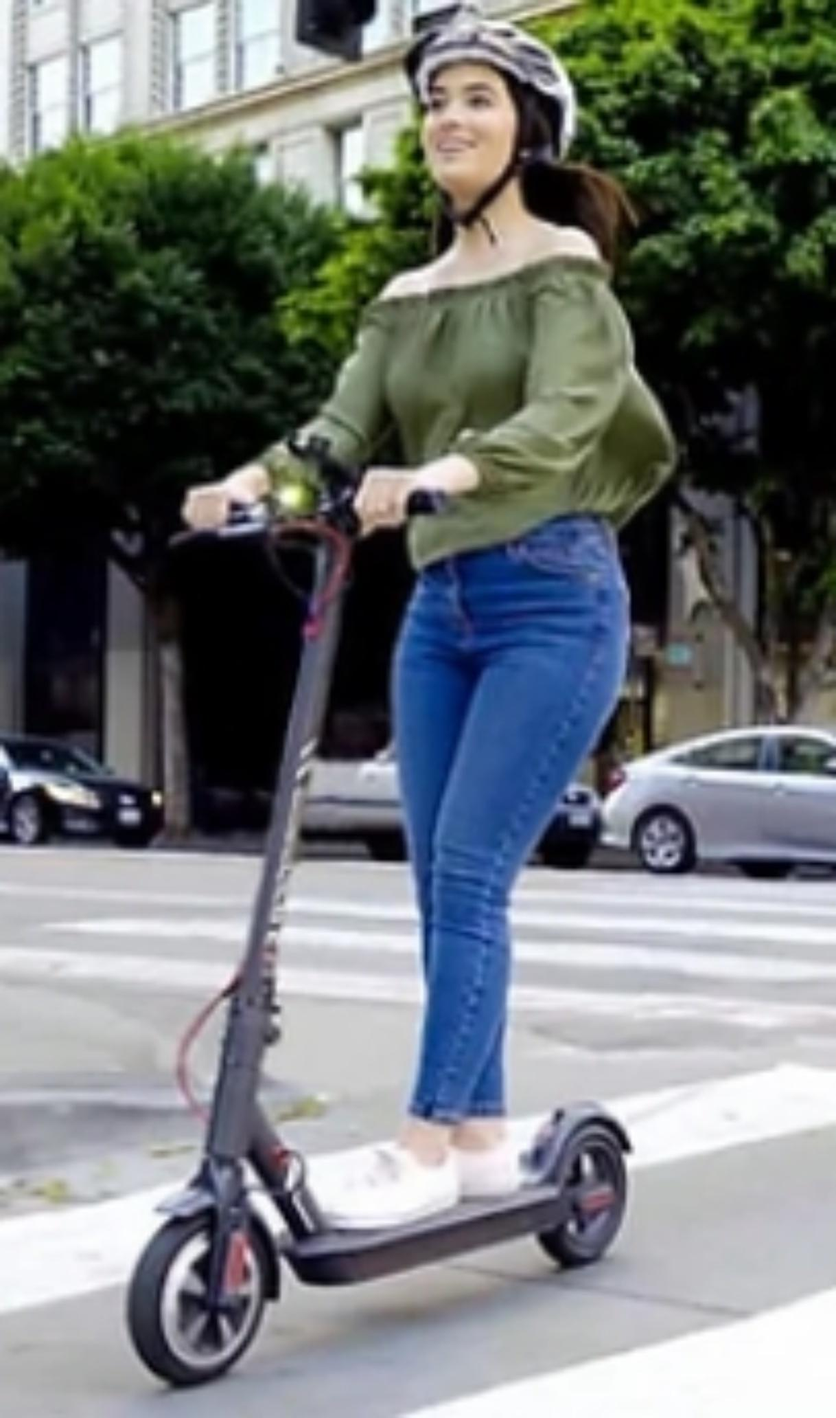helmet: (392, 28, 629, 234)
human: (172, 22, 609, 1239)
kickboard: (80, 1139, 636, 1398)
